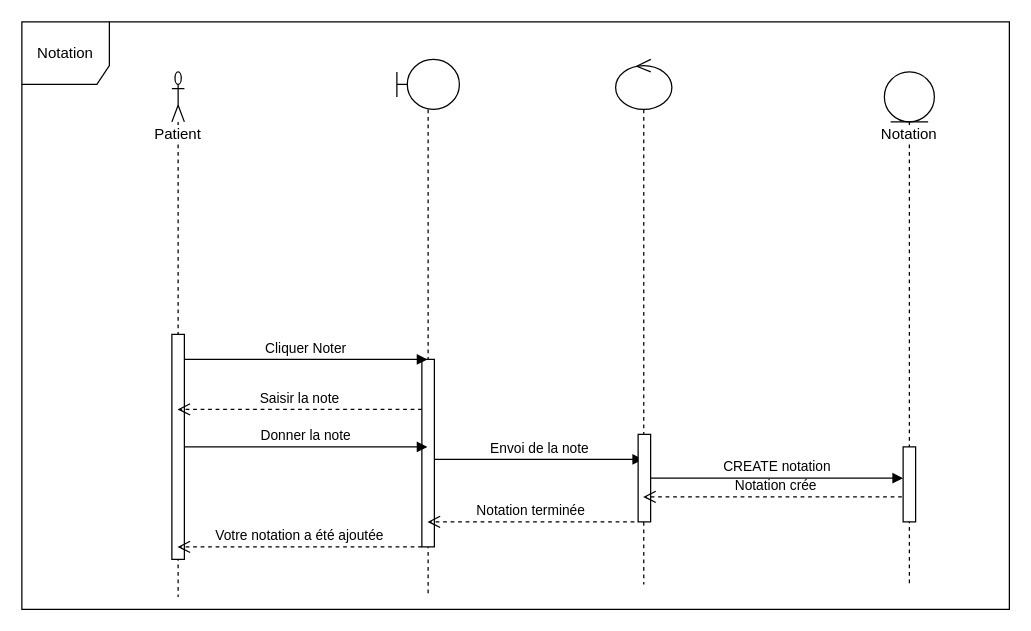
The diagram is 1031 pixels wide and 631 high, and some of its shapes have lost their labels. Each missing label, with the box of its shape:
Notation Management: (396, 58, 459, 597)
Notation Management controller: (614, 58, 672, 584)
